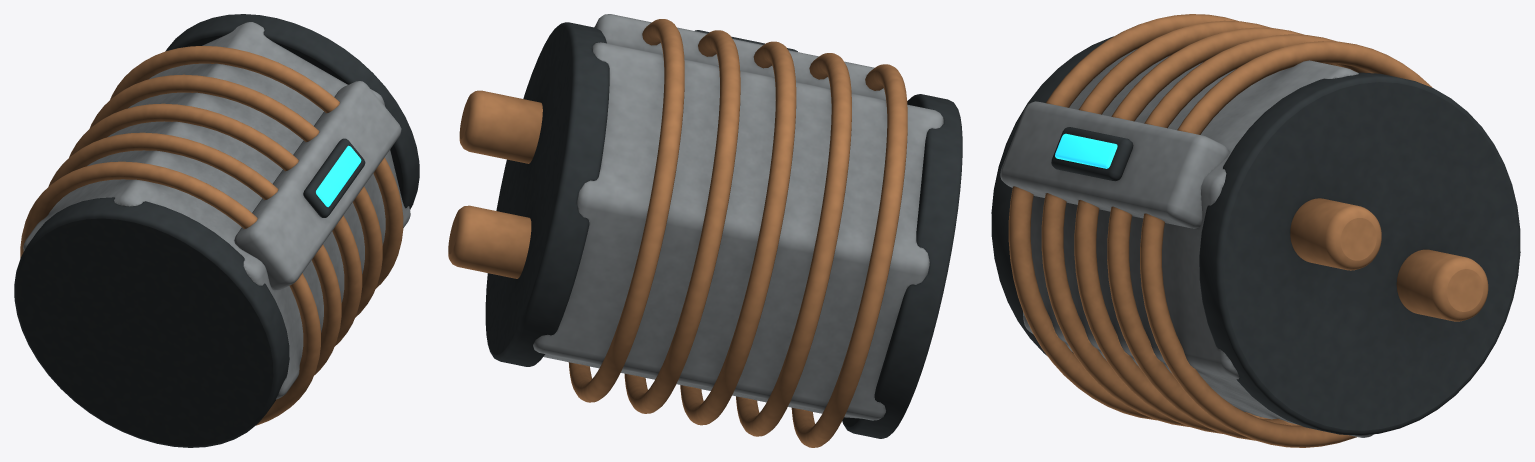
3 renders of one model, left to right at view 1: azimuth 30°, elevation 25°; view 2: azimuth 150°, elevation 25°; view 3: azimuth 270°, elevation 25°, orthographic. The views are drawn at different scales.
Visible parts, largest first — view 1: Hexagonal induction cartridge; view 2: Hexagonal induction cartridge; view 3: Hexagonal induction cartridge.
Boxes of the visible parts, x1,y1,x2,y2 form: Hexagonal induction cartridge: [14, 14, 419, 447]; Hexagonal induction cartridge: [448, 14, 962, 447]; Hexagonal induction cartridge: [991, 14, 1520, 447].
Size of the model in its own units: 1.09 by 0.9118 by 1.05.
Materials: 1 (1 with a texture image).
